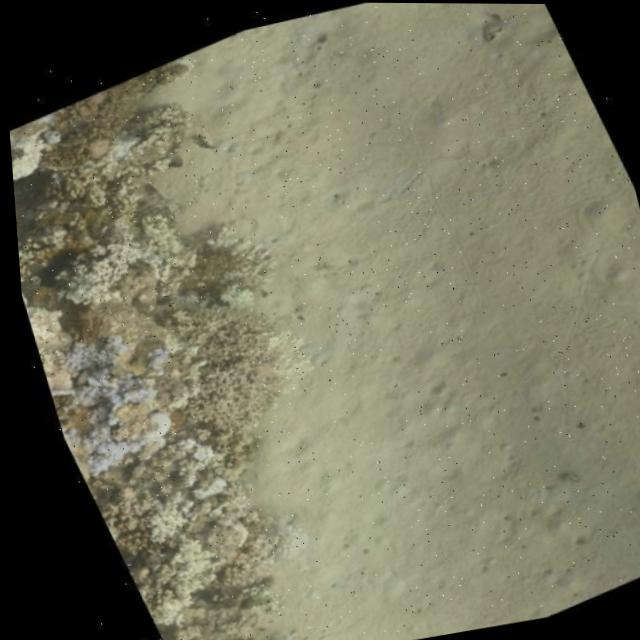Bleached Coral: (103, 513, 240, 637), (42, 306, 171, 423), (32, 223, 150, 324), (45, 393, 143, 478), (110, 471, 197, 546), (197, 263, 267, 322), (244, 501, 307, 565), (86, 115, 149, 166)
